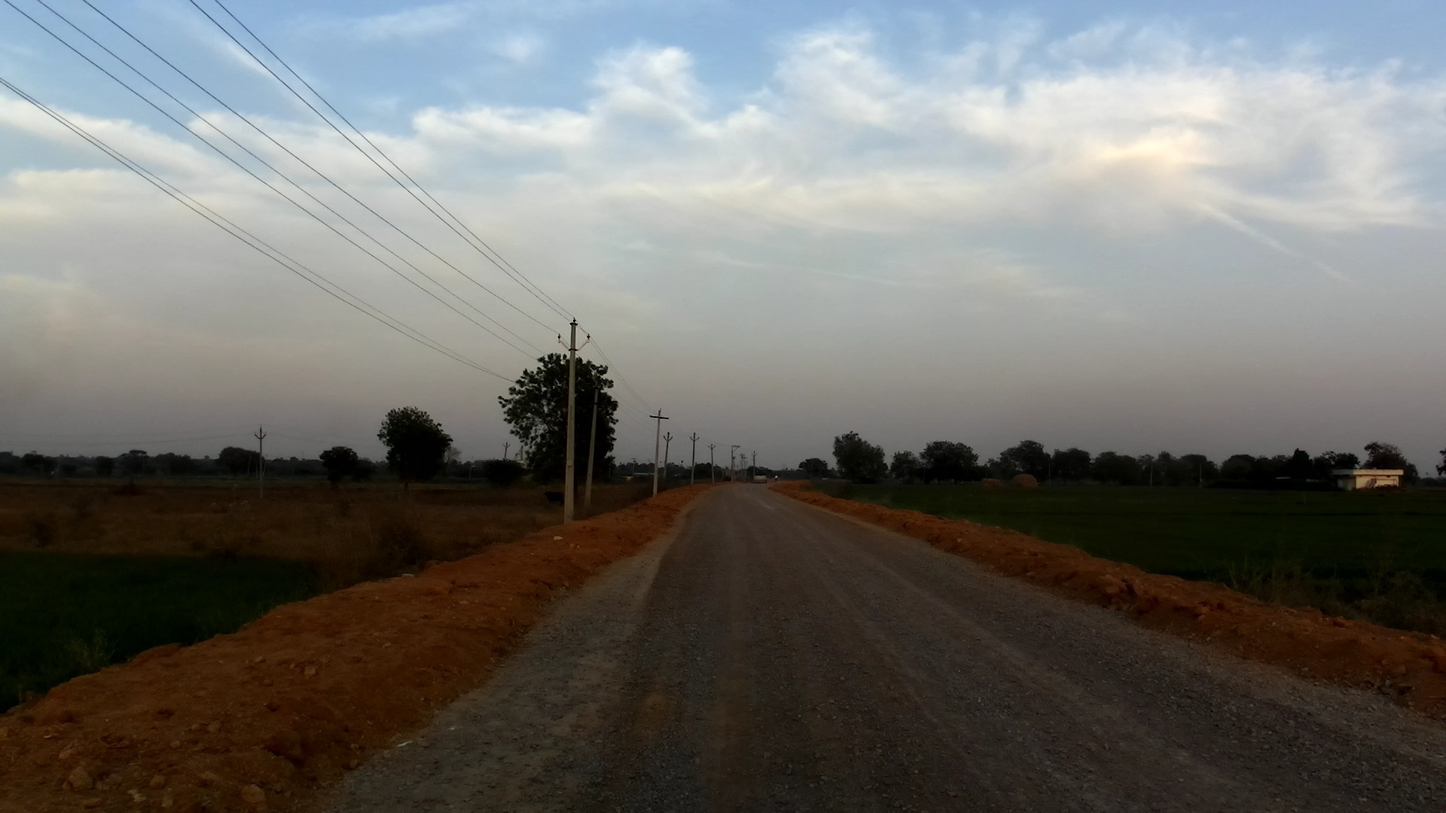vehicle fallback: (750, 472, 768, 486), (772, 471, 779, 483)
